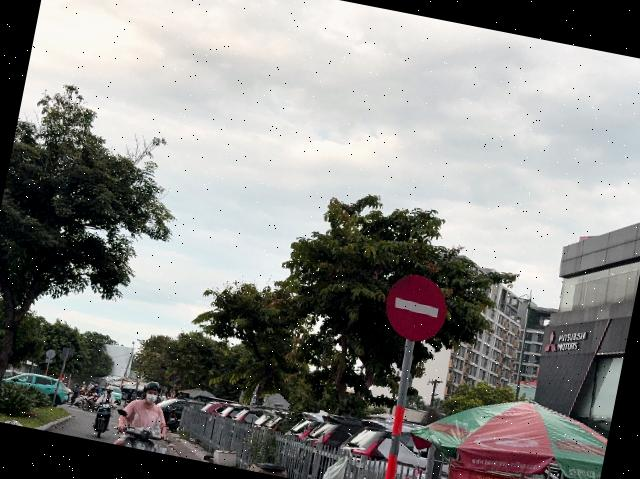cam-di-nguoc-chieu: (379, 270, 452, 345)
